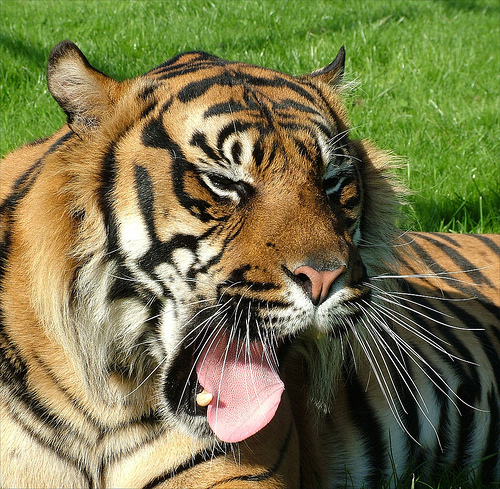Tigre: (13, 31, 473, 455)
